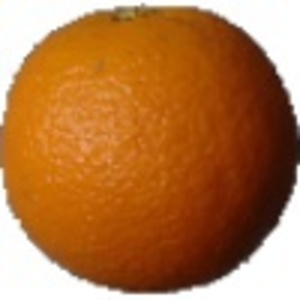laranja: (2, 3, 298, 295)
